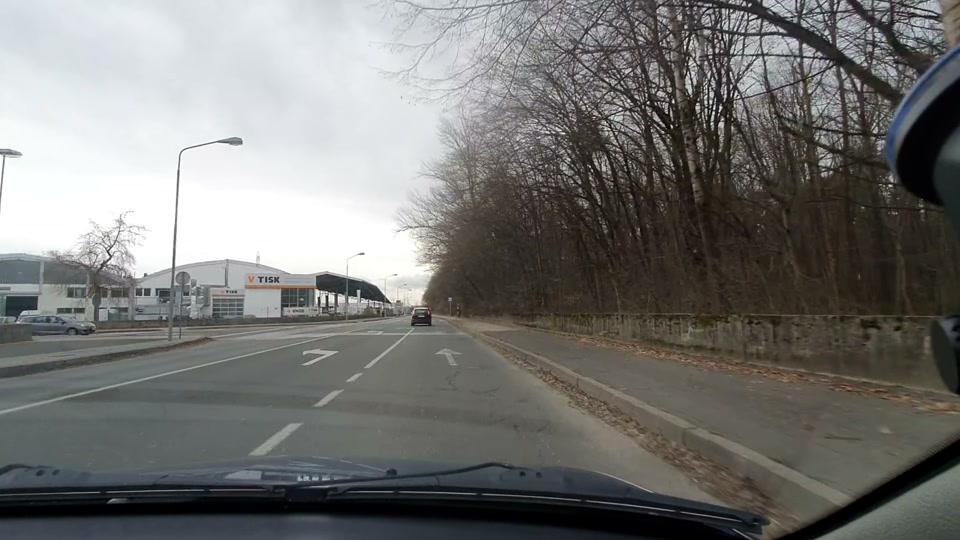vehicle_ign: (410, 306, 433, 329)
vehicle_l: (19, 310, 100, 336)
